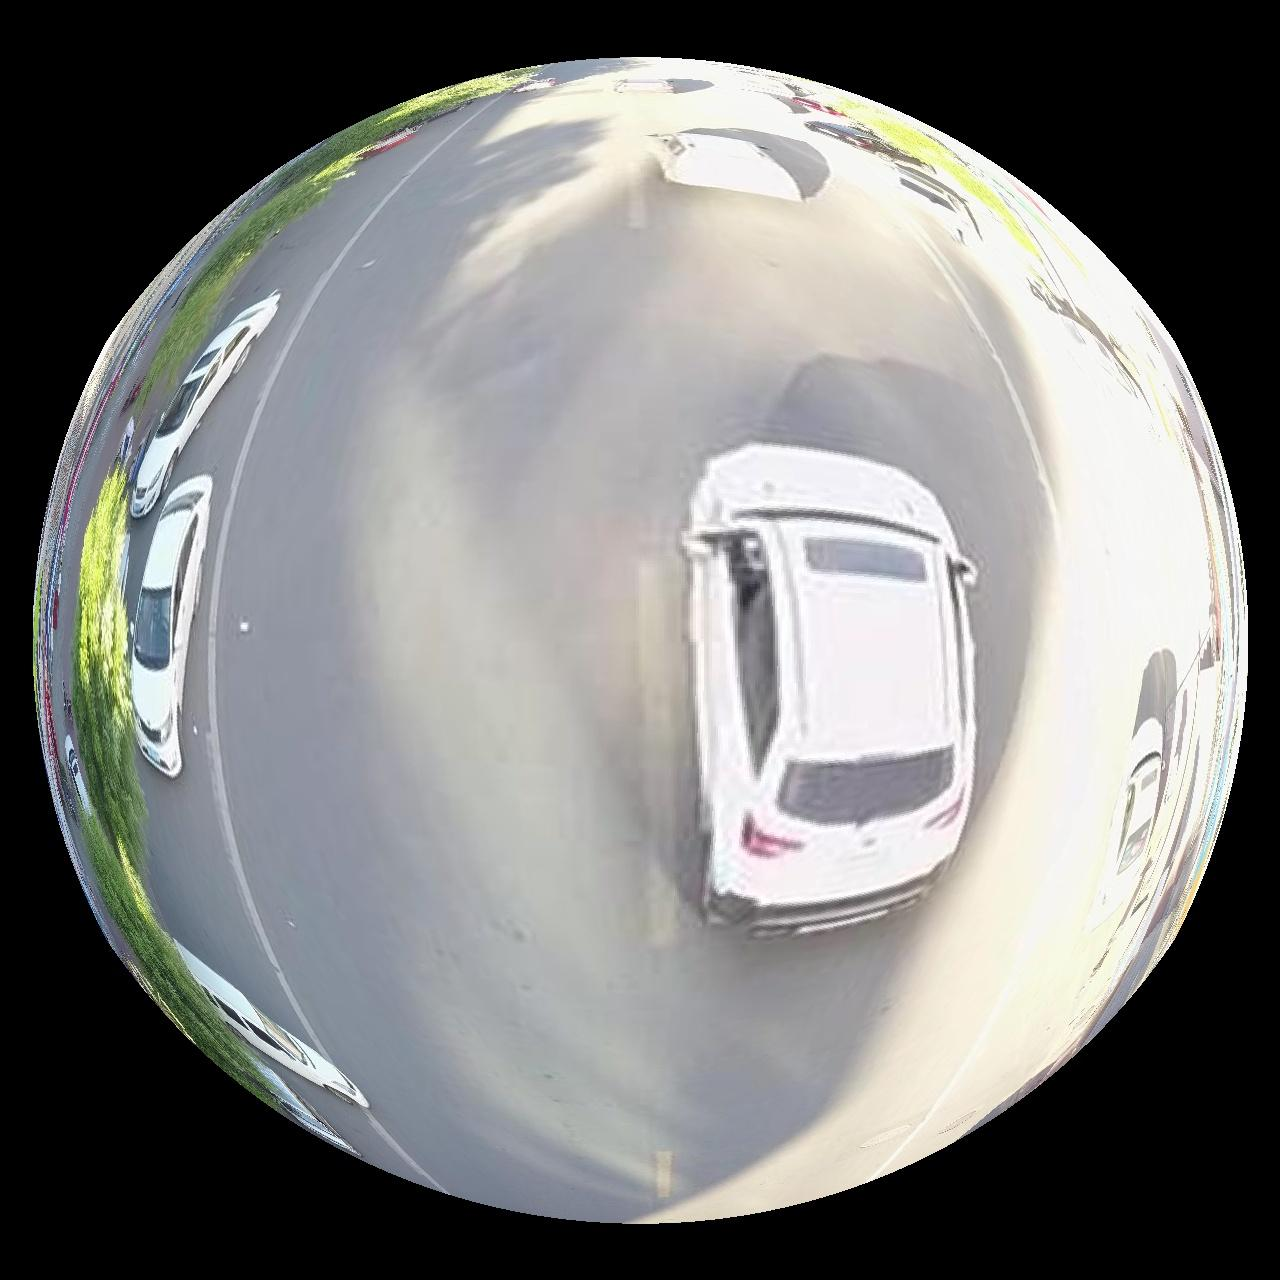cars: (683, 443, 977, 936), (128, 292, 279, 518), (173, 943, 368, 1110), (129, 475, 211, 778), (658, 131, 800, 200), (1112, 718, 1168, 876), (615, 77, 679, 92)
